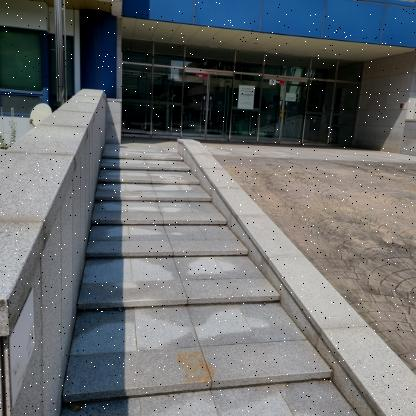stair: (72, 144, 289, 416)
